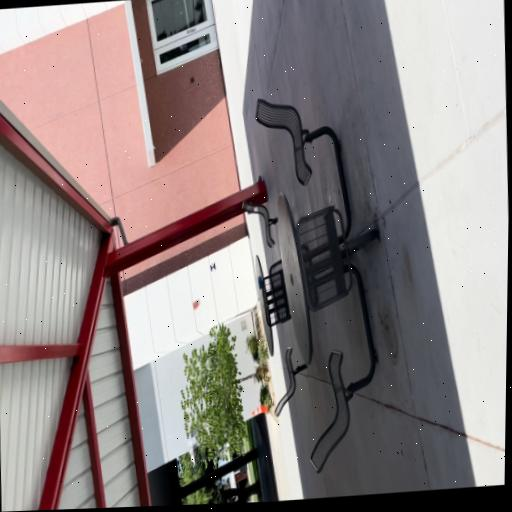target9: (209, 261, 216, 273)
